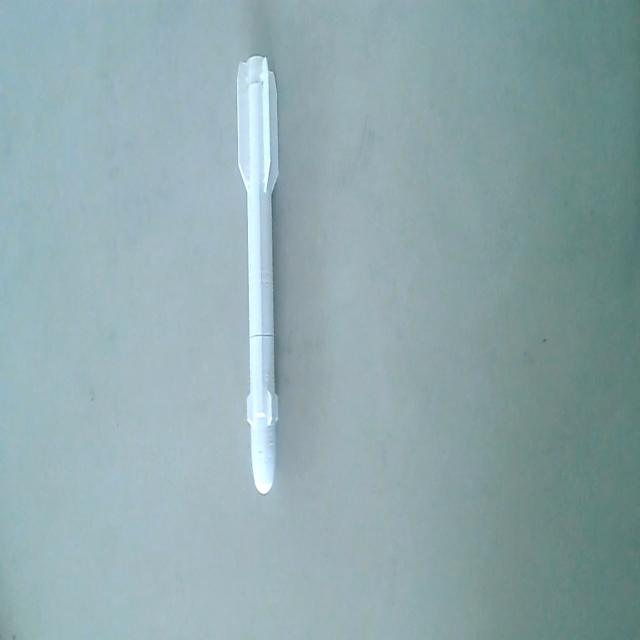Rocket: (238, 48, 282, 503)
